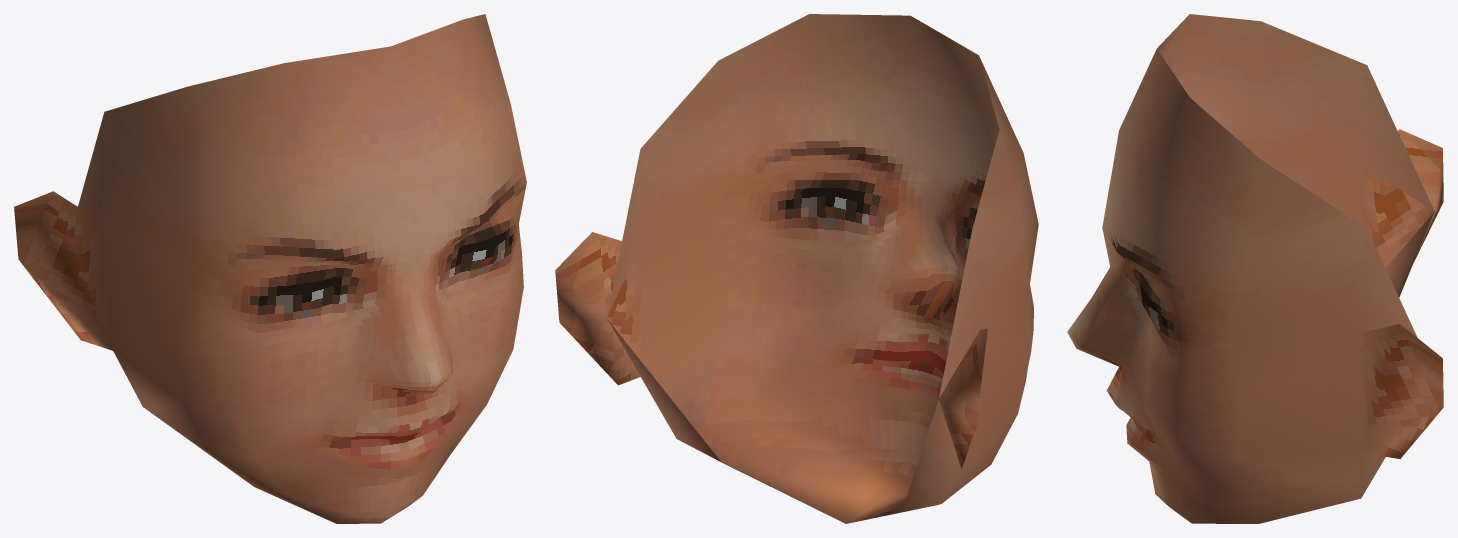
3 renders of one model, left to right at view 1: azimuth 30°, elevation 25°; view 2: azimuth 150°, elevation 25°; view 3: azimuth 270°, elevation 25°, orthographic. The views are drawn at different scales.
Bounding box in the file's own units: 19.4 × 20.18 × 14.69.
1 material, 1 textured.
